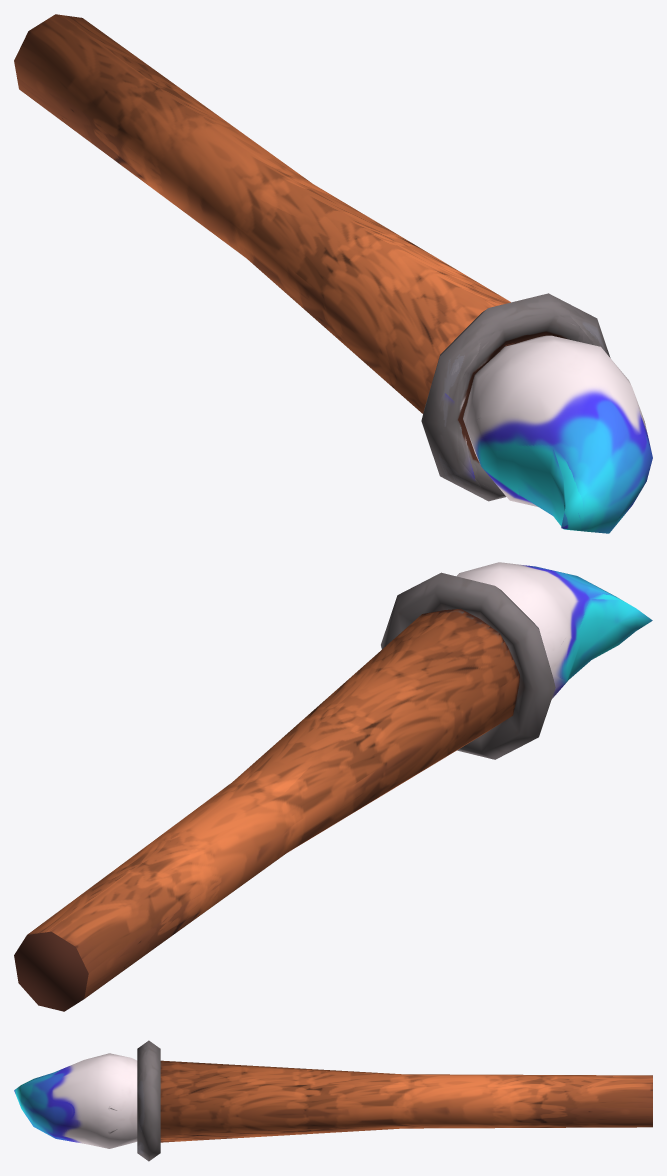
File: CS 4482 App 3 Paintbrush.fbx
3 views of the same model, one above another, from view 1: azimuth 30°, elevation 25°; view 2: azimuth 150°, elevation 25°; view 3: azimuth 270°, elevation 25° (orthographic). The views are drawn at different scales.
Visible parts, largest first — view 1: Paintbrush; view 2: Paintbrush; view 3: Paintbrush.
Boxes of the visible parts, x1,y1,x2,y2 form: Paintbrush: [14, 14, 652, 533]; Paintbrush: [14, 562, 652, 1011]; Paintbrush: [14, 1040, 652, 1161].
Size of the model in its own units: 31.33 by 29.79 by 164.
Materials: 1 (1 with a texture image).
